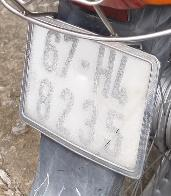2: (54, 85, 76, 139)
3: (79, 96, 98, 151)
4: (114, 48, 132, 109)
5: (102, 107, 126, 160)
6: (39, 23, 59, 78)
7: (61, 30, 80, 81)
8: (29, 75, 53, 125)
H: (91, 39, 113, 103)
